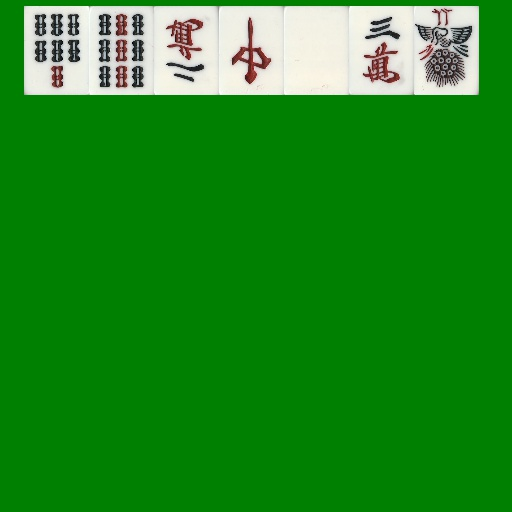1s: (414, 6, 479, 95)
2m: (154, 6, 219, 95)
3m: (349, 6, 414, 95)
7s: (24, 6, 89, 95)
9s: (89, 6, 154, 95)
tyun: (219, 6, 284, 95)
white: (284, 6, 349, 95)
